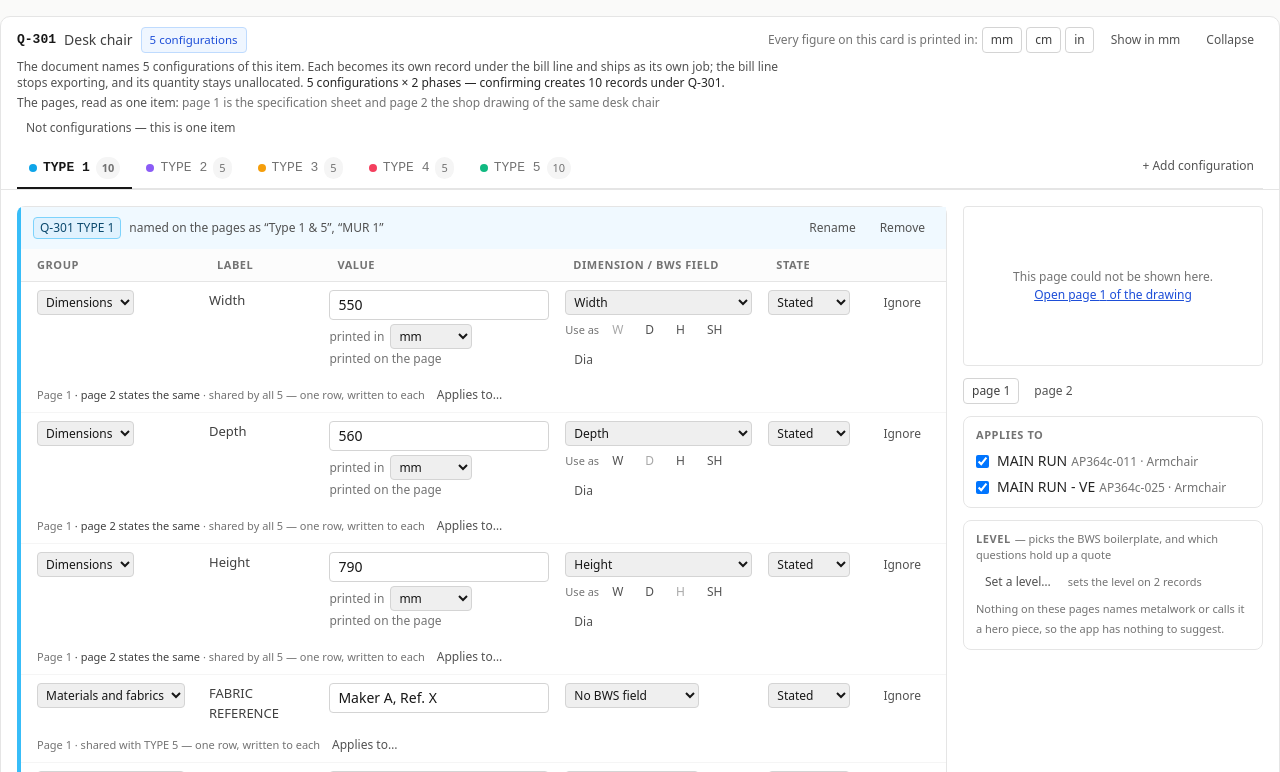
Test: correcting the configurations on the card › refuses a name the database would refuse, in words, before anything is sent
The image size is (1280, 772).
Click the button "+ Add configuration" at (1198, 166), box [1134,152,1263,178]
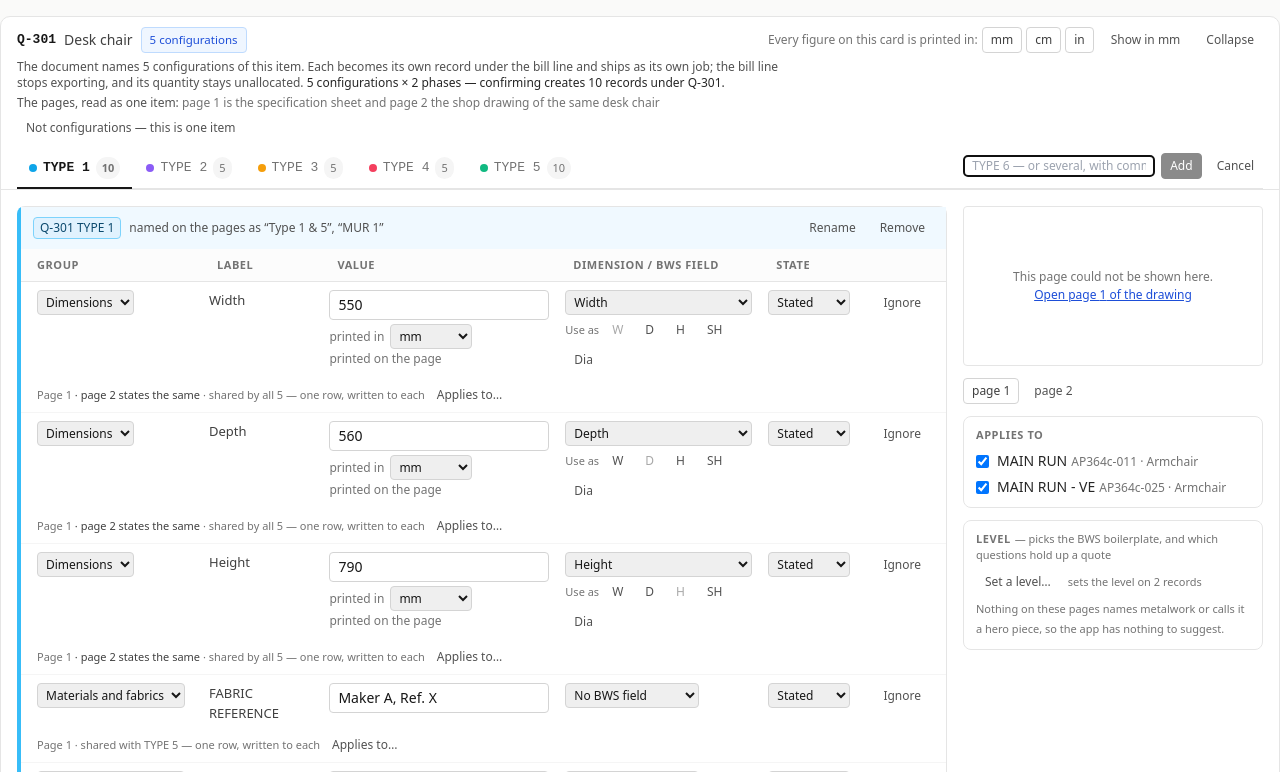
Type "Type 1 & 5 guestroom corridor" into the field named "Configuration name" at (1059, 166), box [963,154,1155,176]
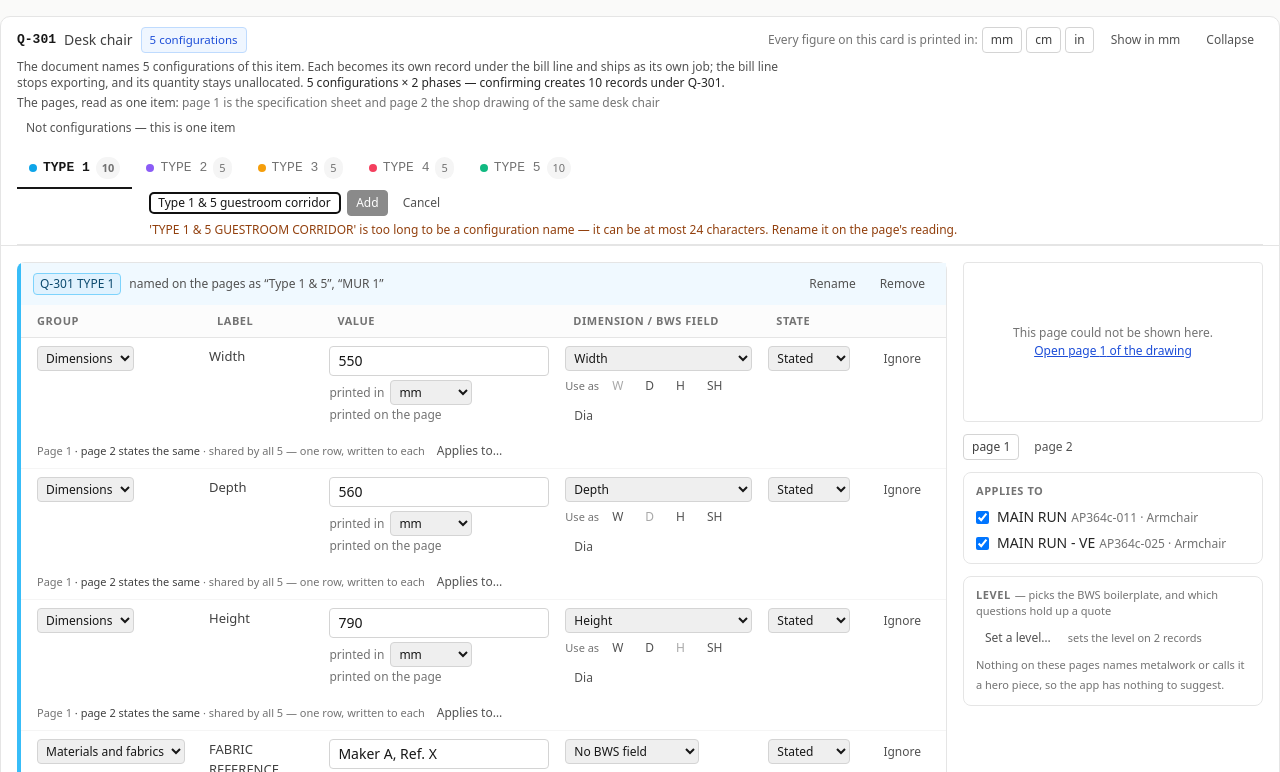
Expected: the button "Add" is disabled, [347,190,388,216]
Expected: the text "'TYPE 1 & 5 GUESTROOM CORRIDOR' is too long to be a configuration name" is shown, [149,221,957,238]
Clear the field named "Configuration name" at (245, 203), box [149,192,341,214]
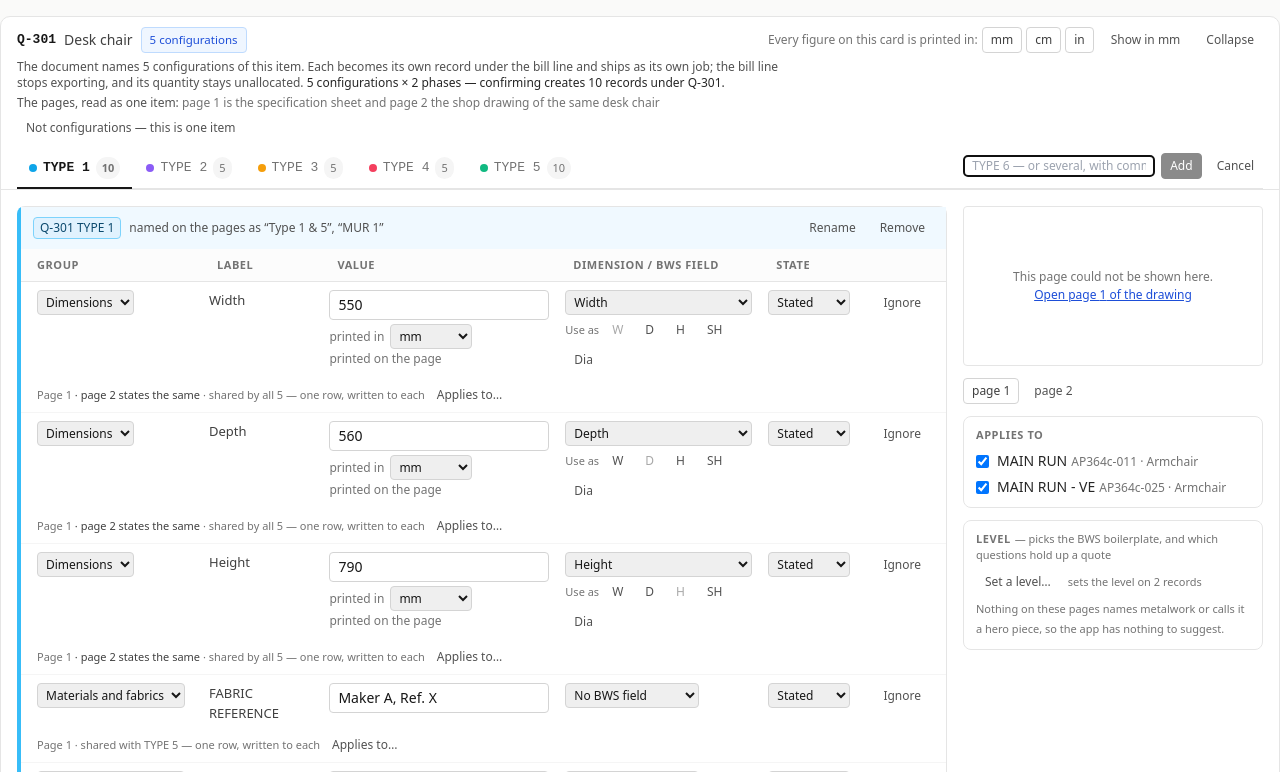
Type "type 2" into the field named "Configuration name" at (1059, 166), box [963,154,1155,176]
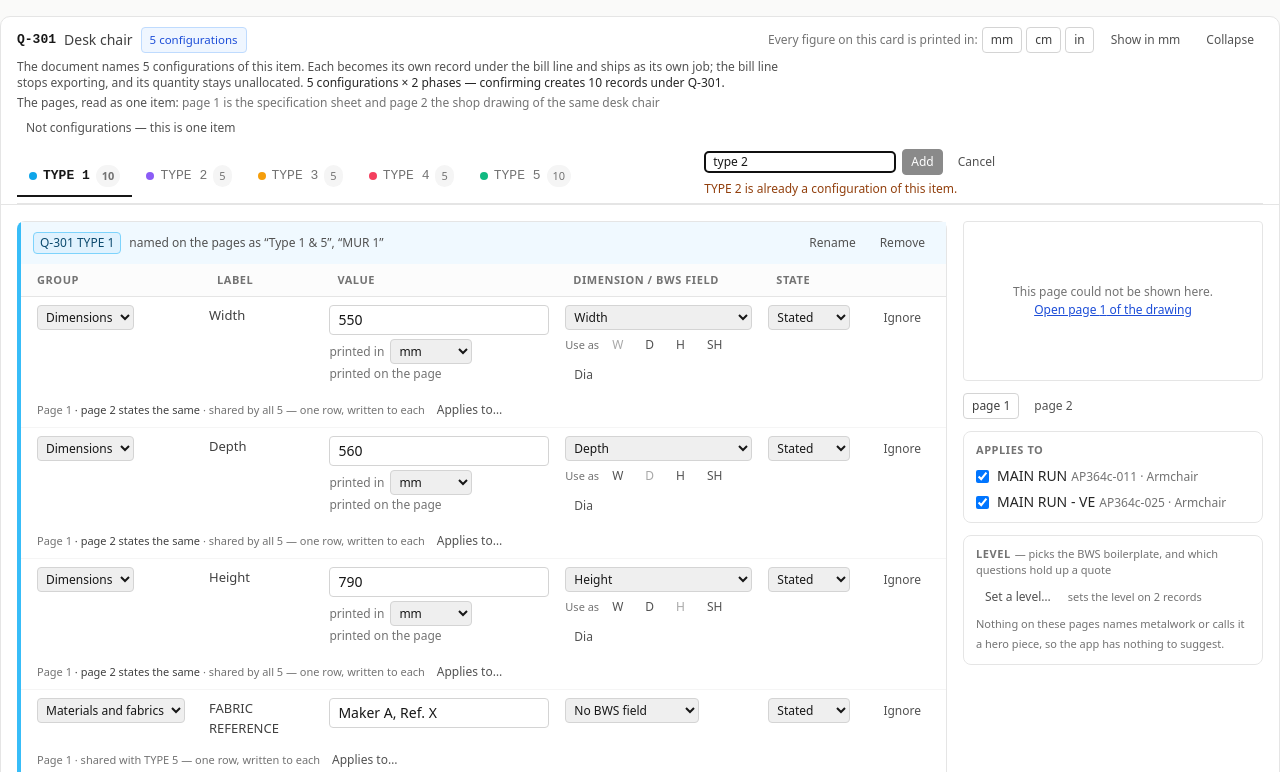
Expected: the text "TYPE 2 is already a configuration of this item." is shown, [704,180,957,197]
